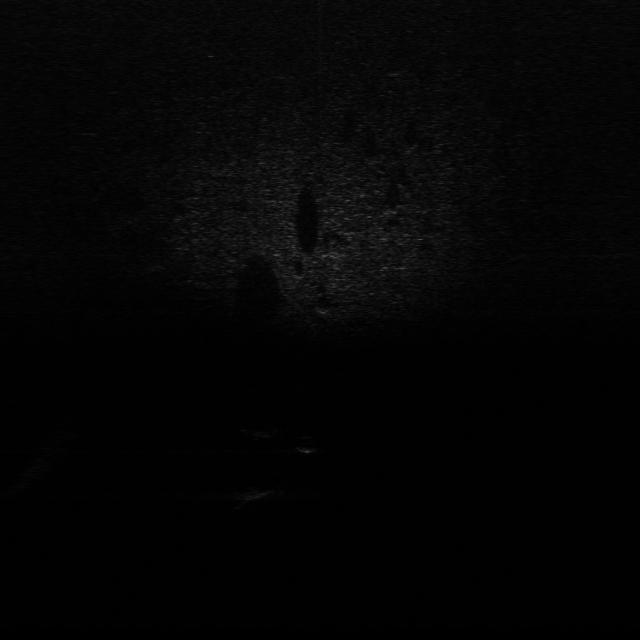ball: (294, 435, 324, 454)
square cage: (238, 484, 288, 502)
tyre: (238, 420, 280, 440)
